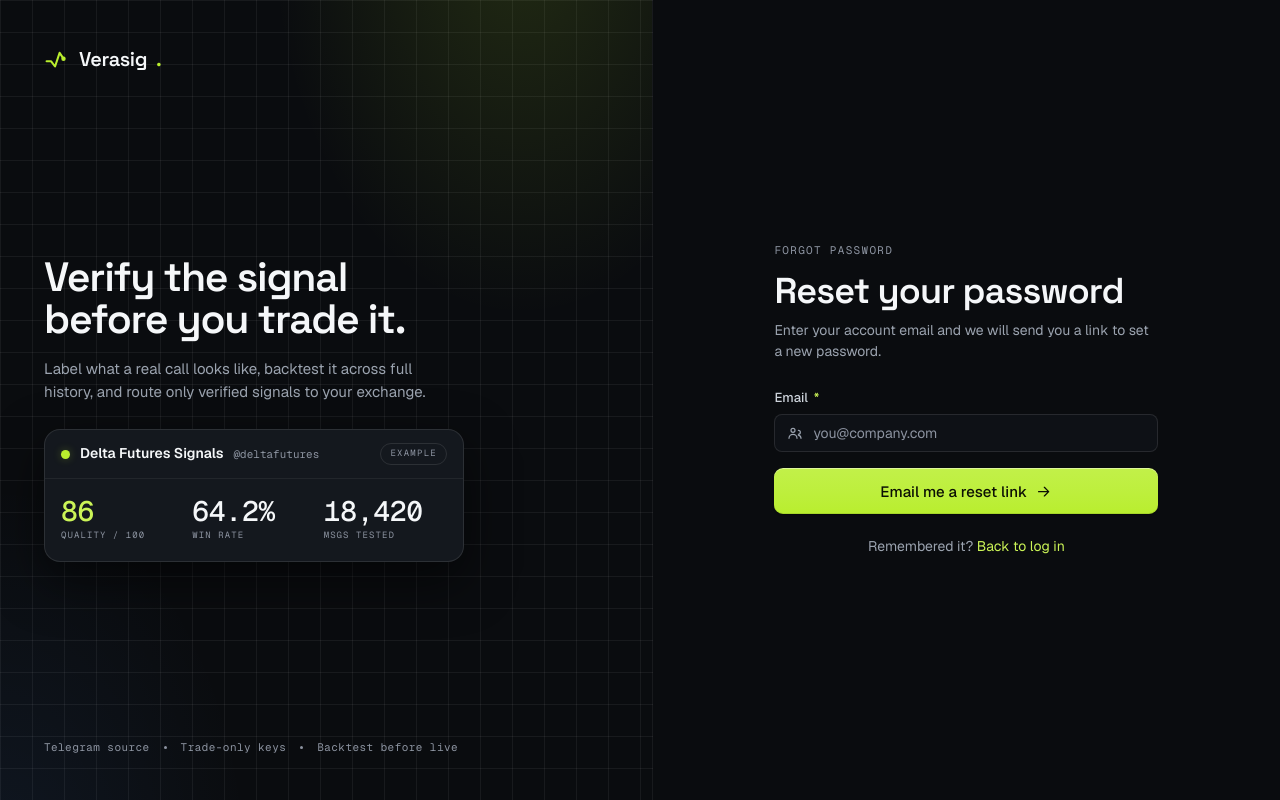
ForgotPasswordView › submits the trimmed email and confirms
The width and height of the screenshot is (1280, 800).
Type "  ada@example.com " into the field labelled "Email".
click(978, 433); type("  ada@example.com ")  # box [811,423,1145,443]
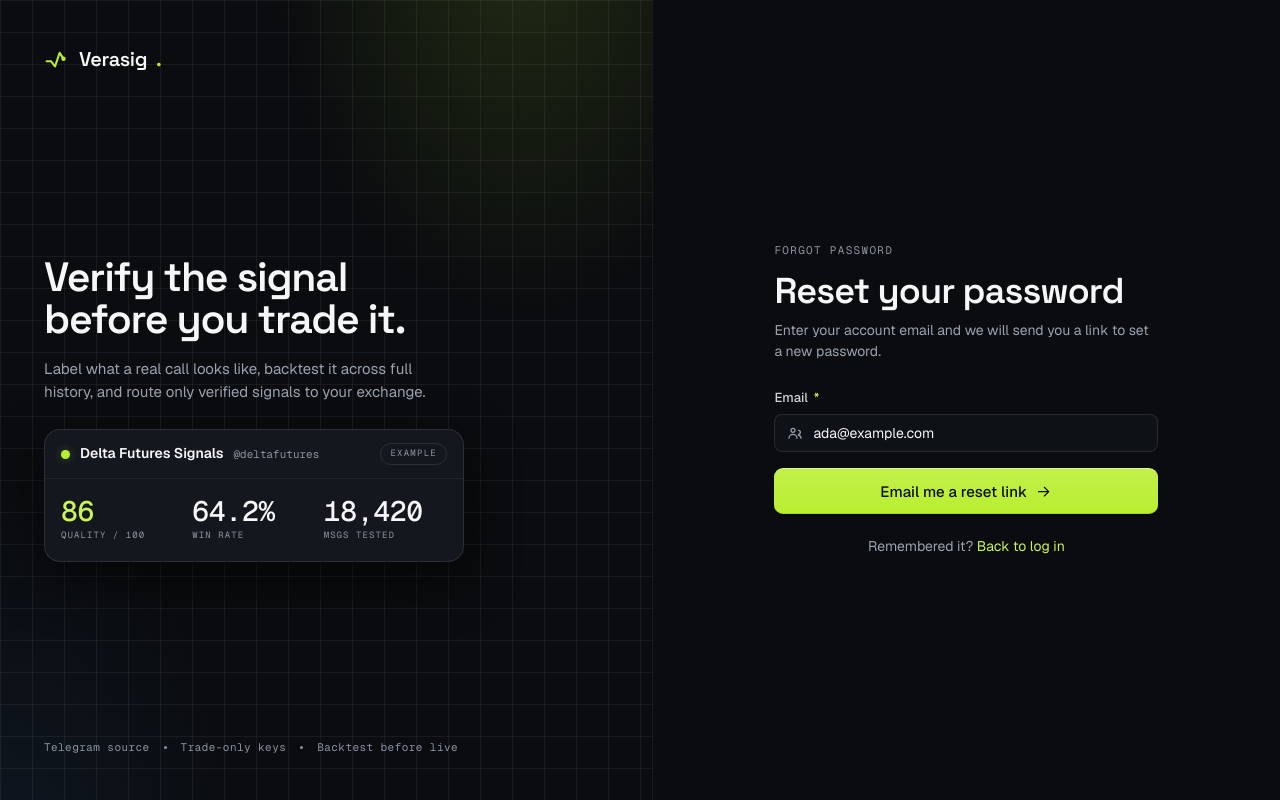
Submit the form labelled "Email * Email me a reset link", box [774,388,1158,514]
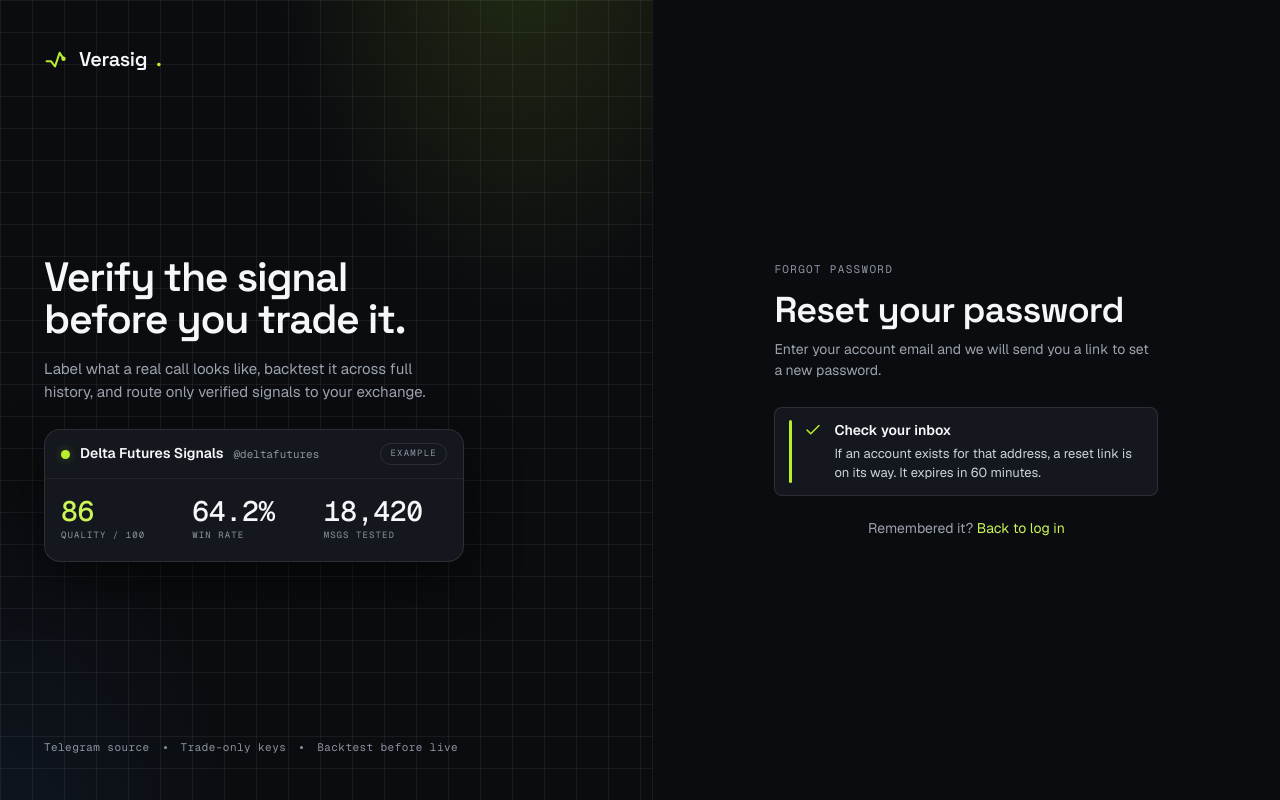
Now the text "If an account exists for that address, a reset link is on its way" is shown, box [834,444,1132,481]
